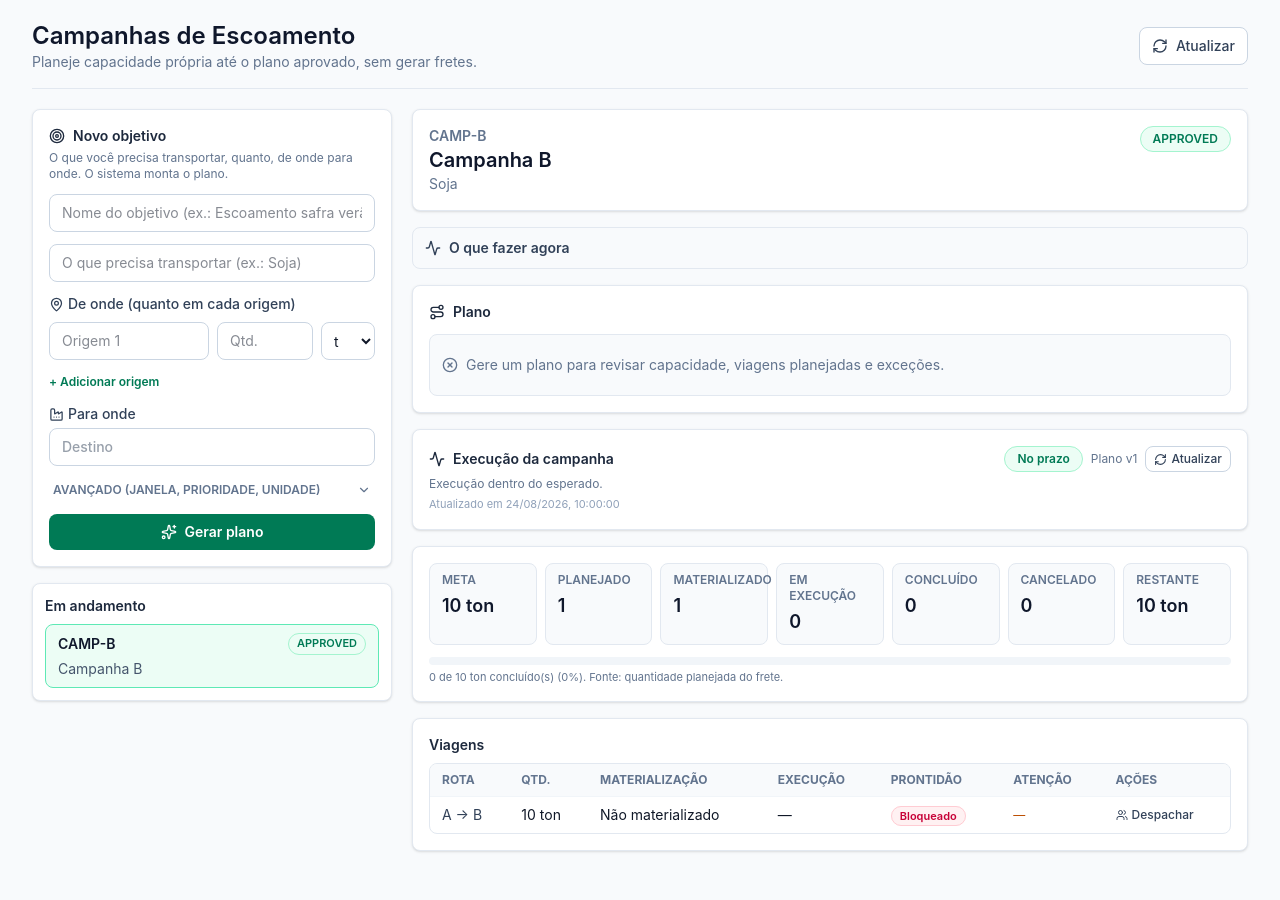
Test: CampaignExecution › despacho: oferta sem seleção envia a TODOS os elegíveis e mostra a rodada aberta
Click the button "Despachar" at (1155, 815), box [1116,807,1194,823]
(page scrolled)
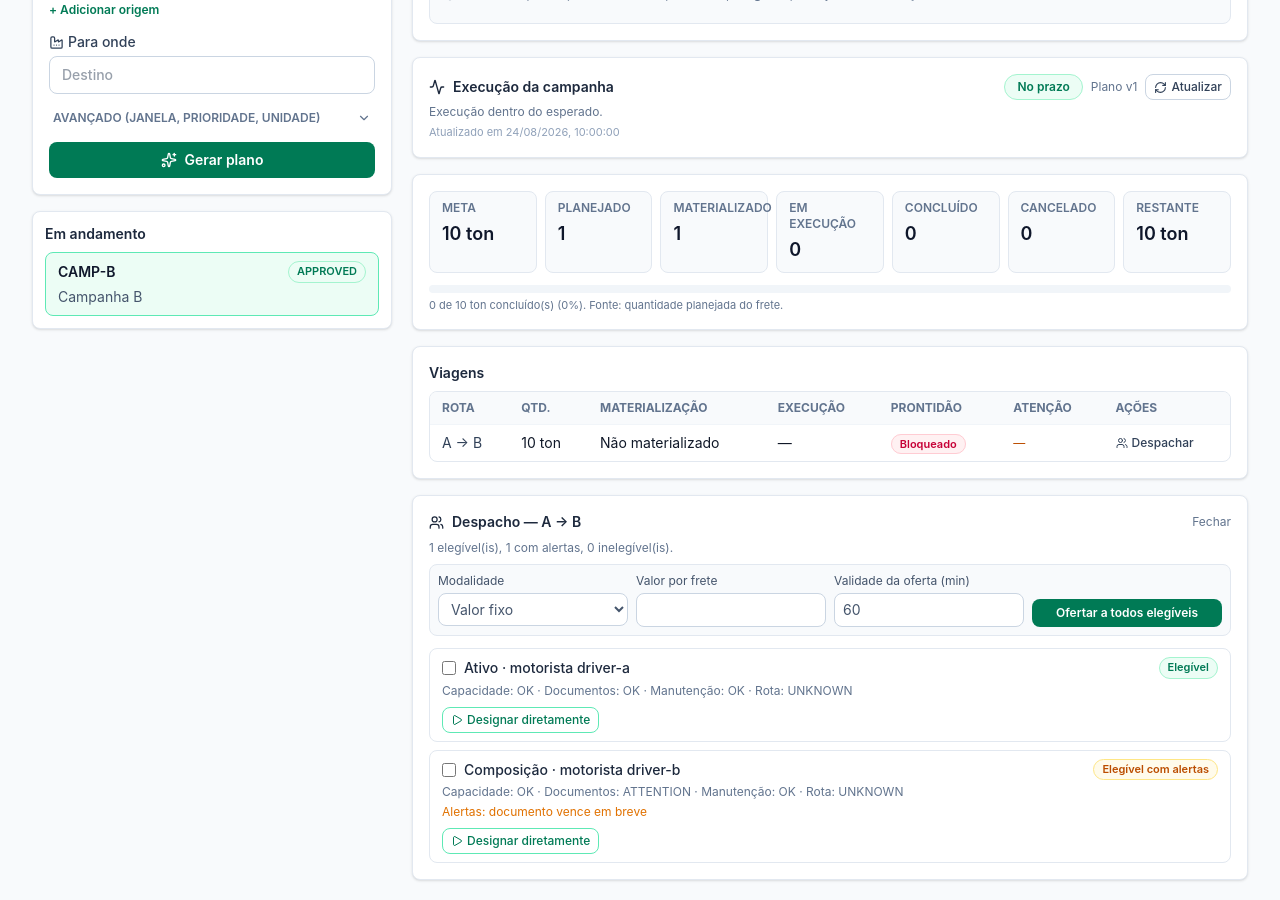
Check: the text "1 elegível(is), 1 com alertas, 0 inelegível(is)." is shown, box [429,540,673,555]
Click the button "Ofertar a todos elegíveis" at (1127, 613), box [1032,599,1222,627]
(page scrolled)
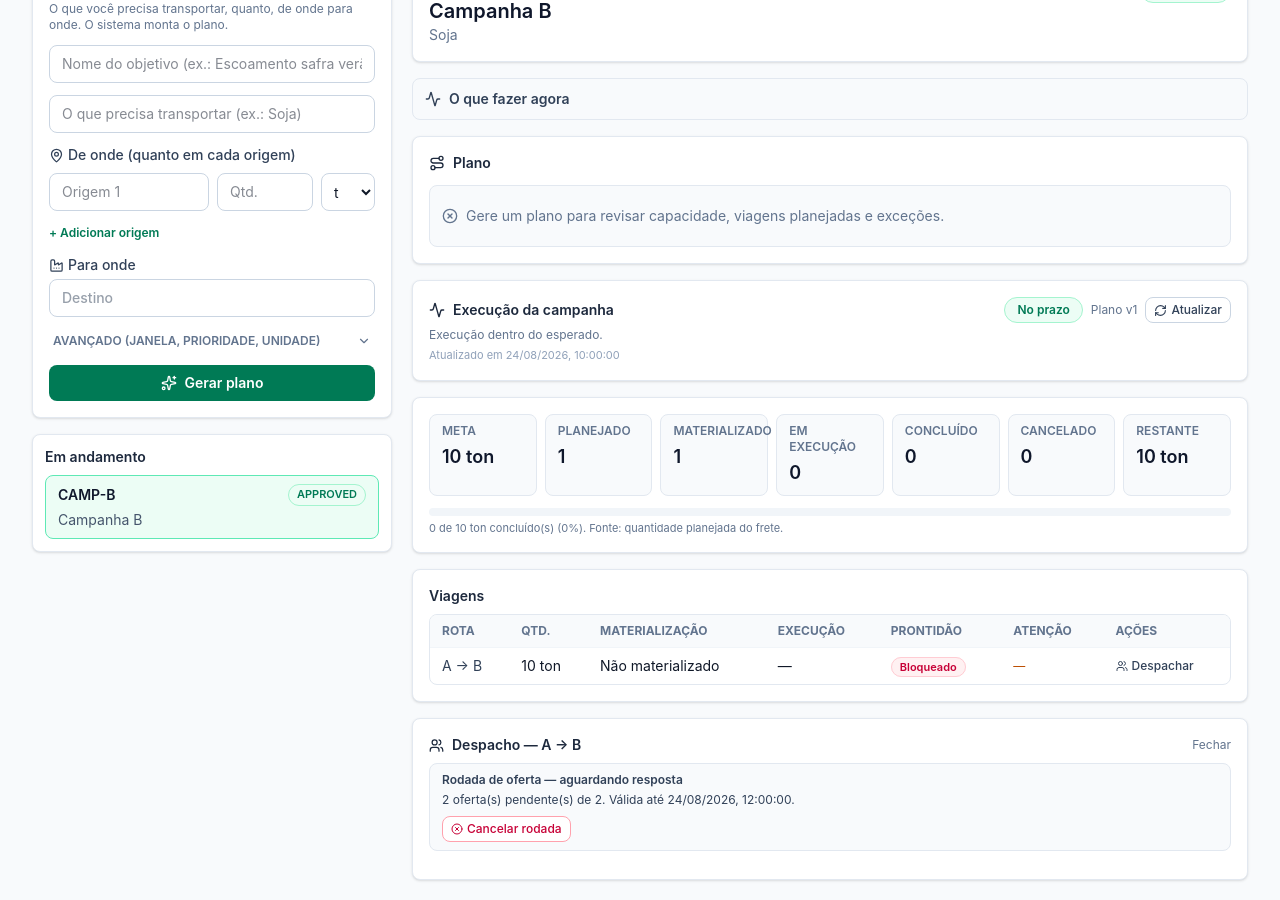
Check: the text "Rodada de oferta — aguardando resposta" is shown, box [442,772,683,787]
Check: the text "2 oferta(s) pendente(s) de 2" is shown, box [442,792,795,807]
Click the button "Cancelar rodada" at (506, 829), box [442,816,571,842]
(page scrolled)
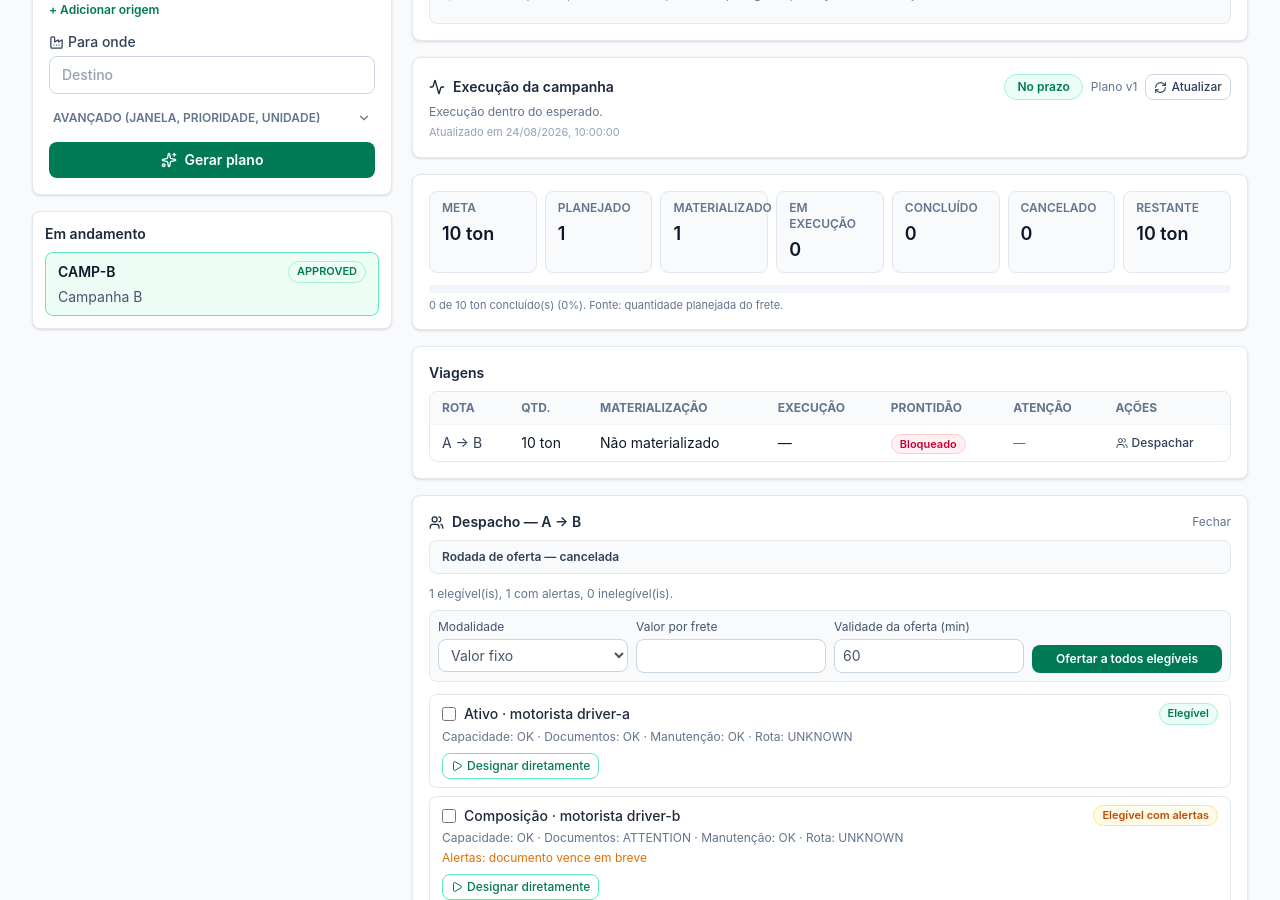
Check: the text "Rodada de oferta — cancelada" is shown, box [442,549,619,564]
